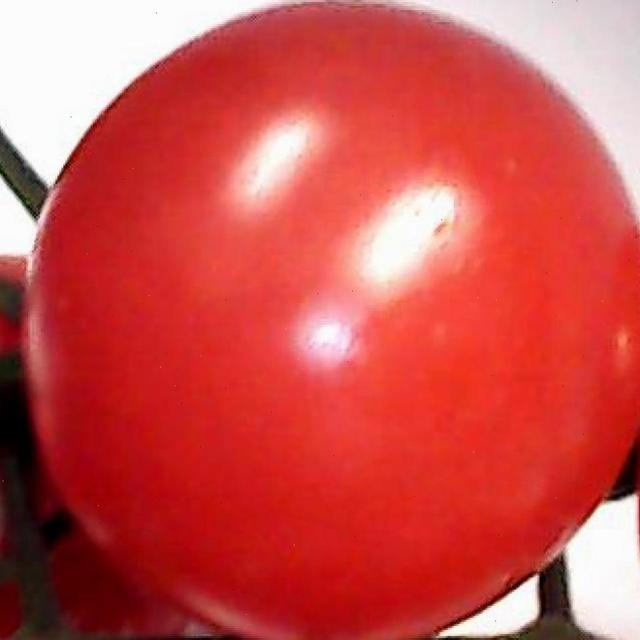Healthy Fruit: (11, 0, 427, 427)
